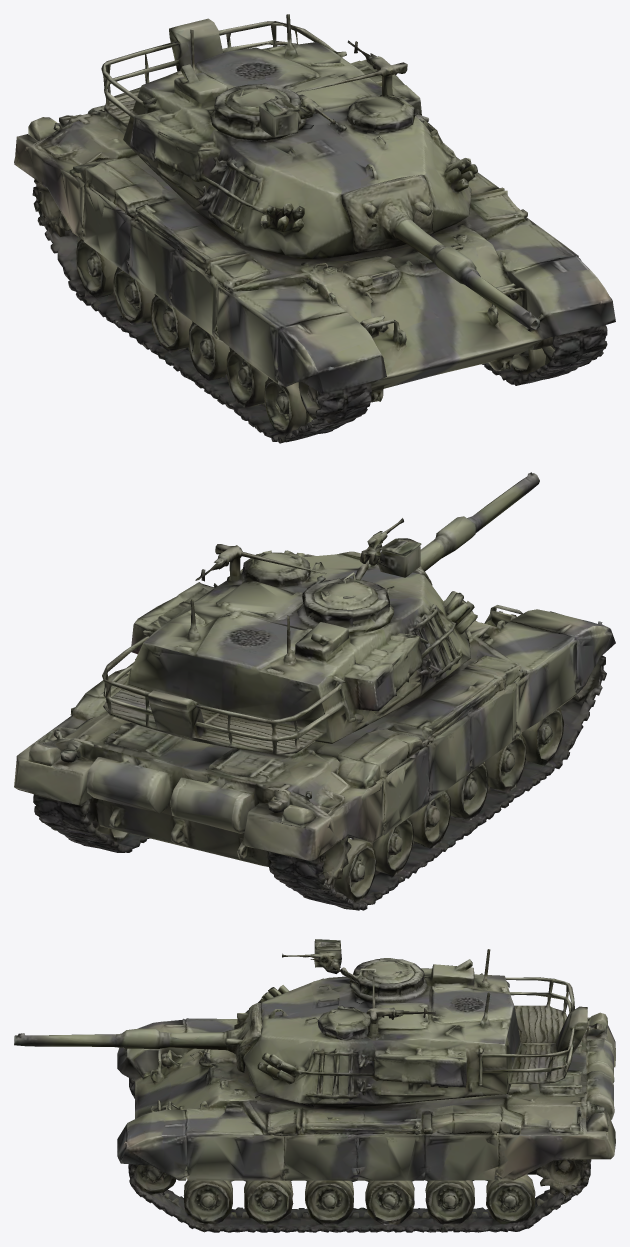
File: tank.glb
The picture shows the model from 3 angles, top to bottom: view 1: azimuth 30°, elevation 25°; view 2: azimuth 150°, elevation 25°; view 3: azimuth 270°, elevation 25°; orthographic projection. The views are drawn at different scales.
Parts seen in each view (by area): view 1: tripo_node_9ffa3ce9-dfde-4490-b08c-3c4cd28d954a; view 2: tripo_node_9ffa3ce9-dfde-4490-b08c-3c4cd28d954a; view 3: tripo_node_9ffa3ce9-dfde-4490-b08c-3c4cd28d954a.
Boxes of the visible parts, box(x1,y1,x2,y2) form: tripo_node_9ffa3ce9-dfde-4490-b08c-3c4cd28d954a: box(14, 14, 615, 443); tripo_node_9ffa3ce9-dfde-4490-b08c-3c4cd28d954a: box(14, 472, 615, 910); tripo_node_9ffa3ce9-dfde-4490-b08c-3c4cd28d954a: box(14, 939, 615, 1232).
Bounding box in the file's own units: 0.4576 × 0.3794 × 0.9781.
1 material, 1 textured.
